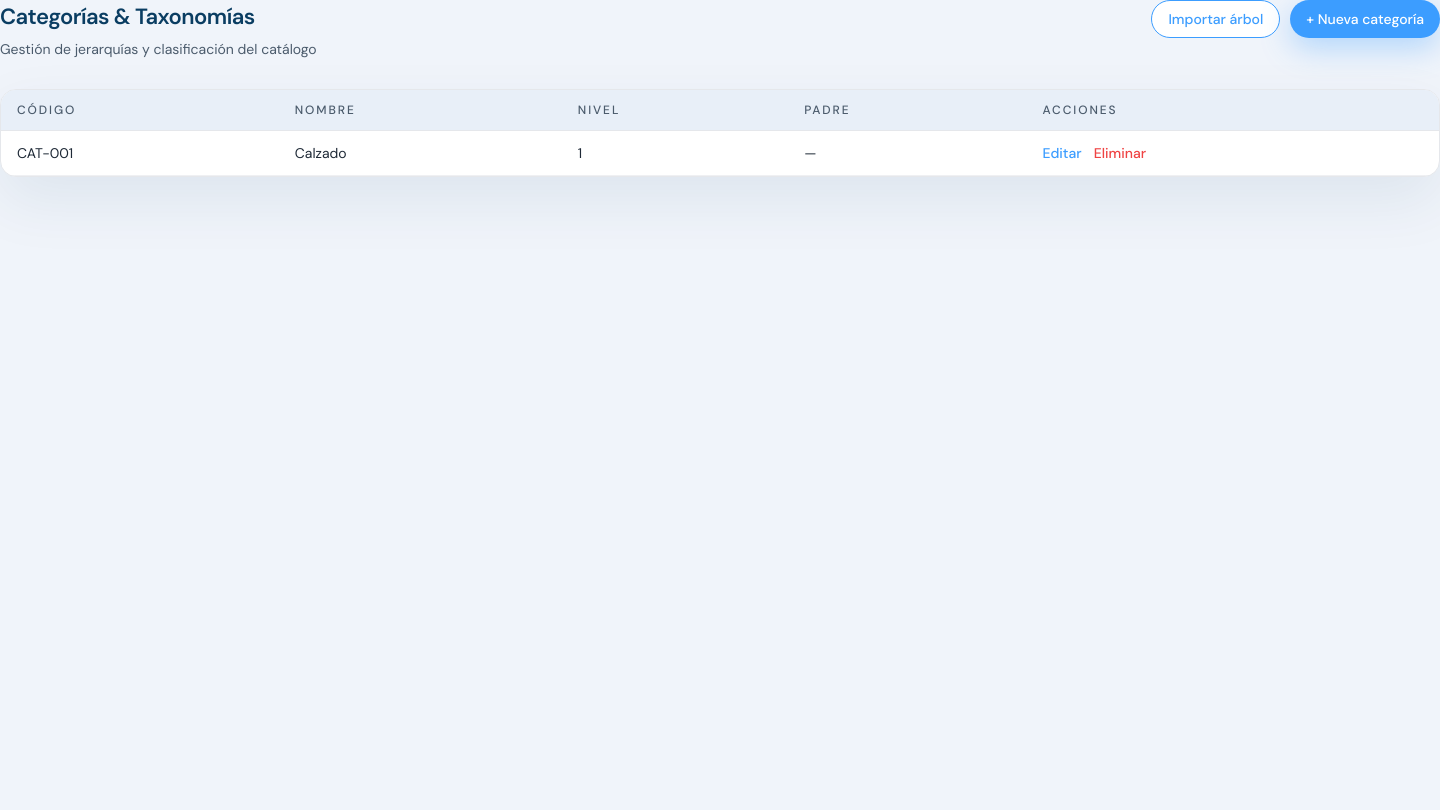
CategoriesPage › abre edición y confirmación de borrado
Click the button "Editar". click: (1062, 153)
box: top-left (1042, 143), bottom-right (1082, 163)
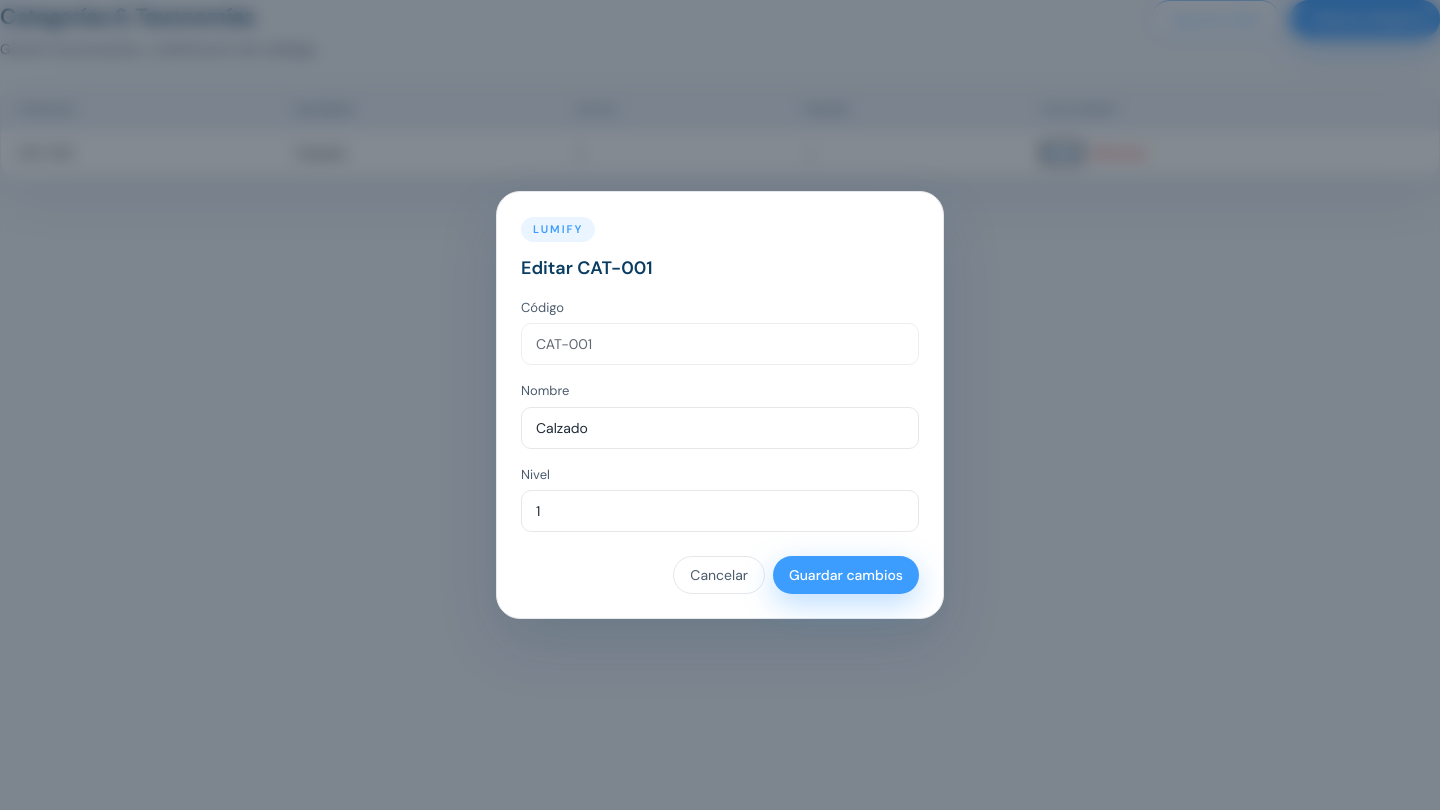
Result: the heading "Editar CAT-001" is shown at top-left (521, 256), bottom-right (653, 280)
Click the button "Cancelar". click: (719, 575)
box: top-left (673, 556), bottom-right (765, 594)
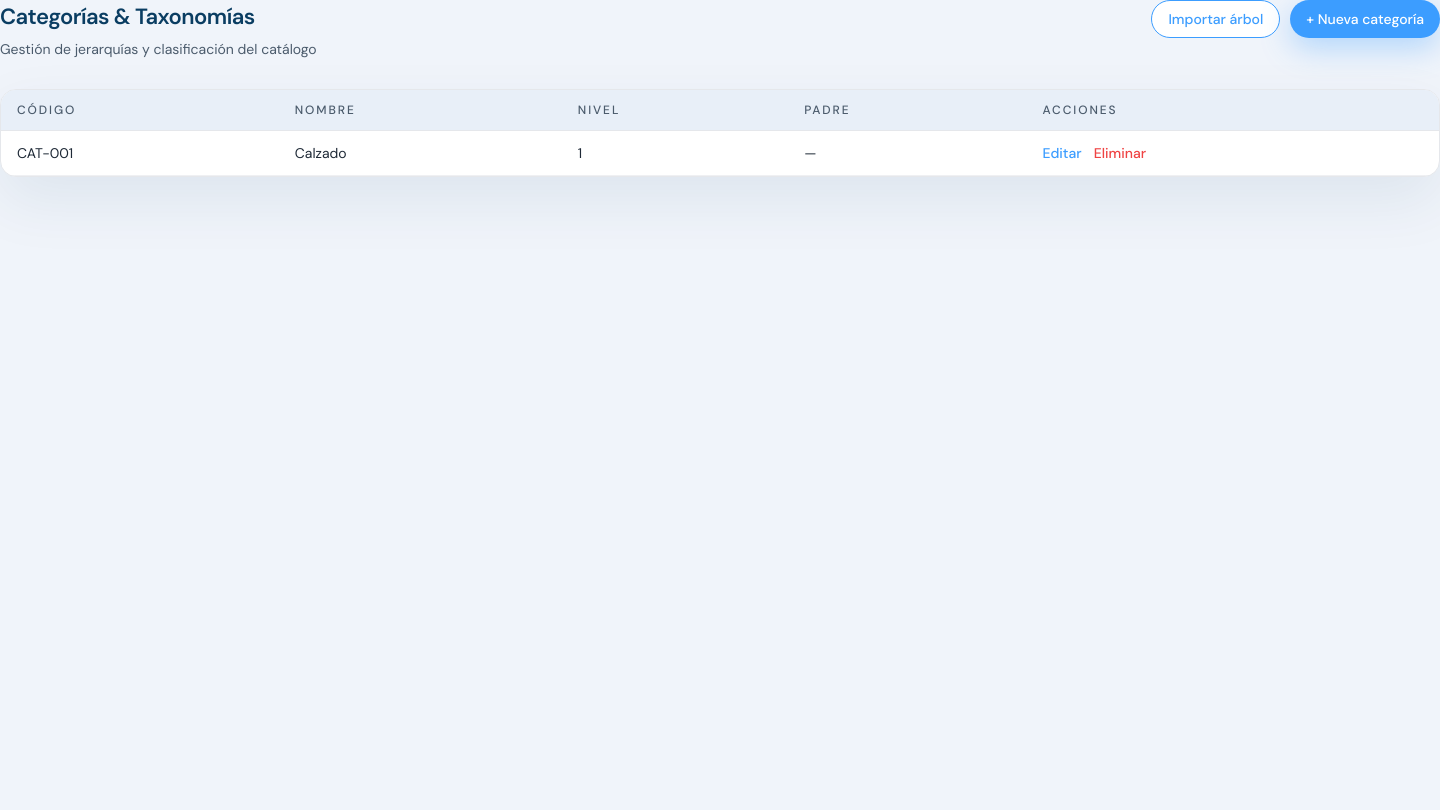
Click the button "Eliminar". click: (1120, 153)
box: top-left (1094, 143), bottom-right (1146, 163)
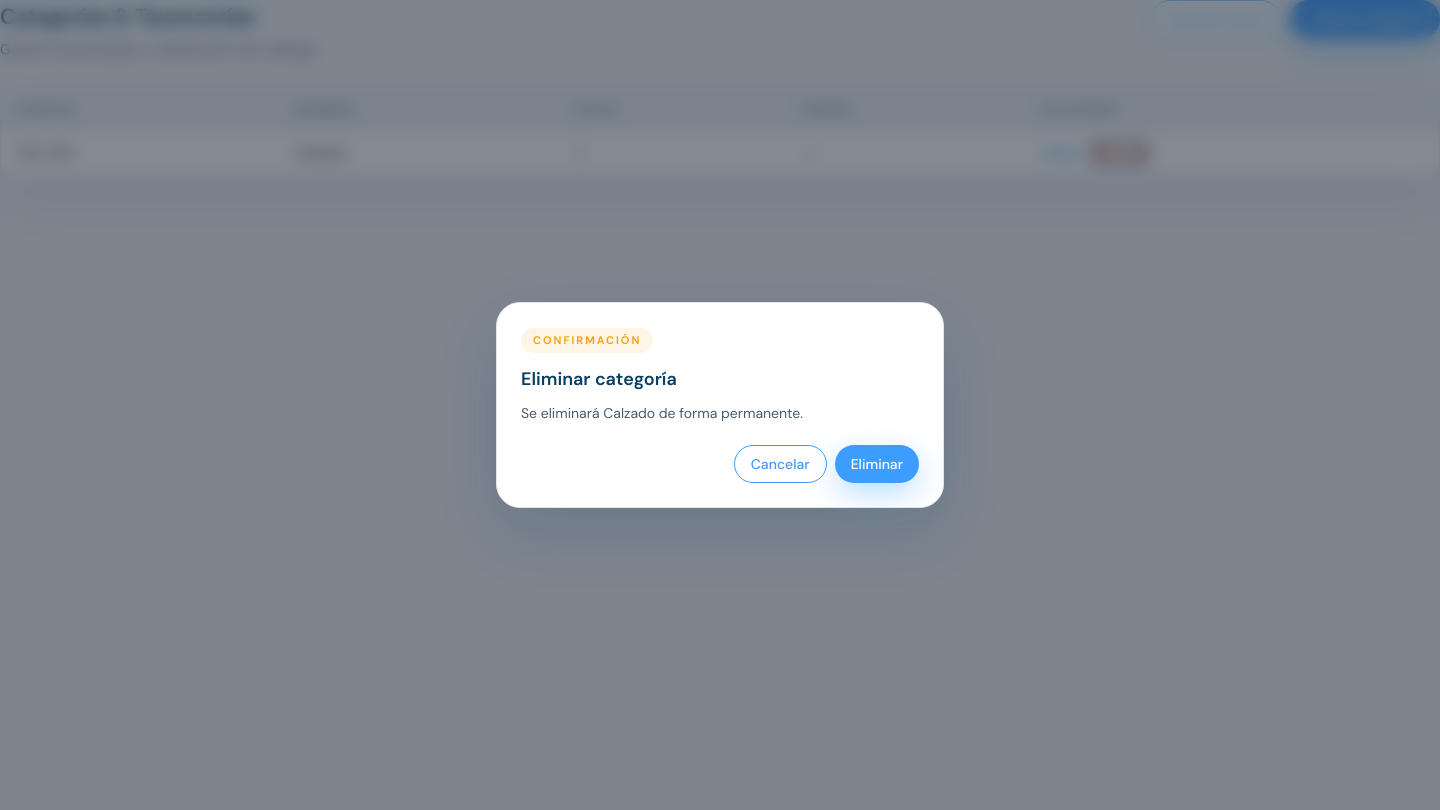
Result: the heading "Eliminar categoría" is shown at top-left (521, 367), bottom-right (677, 391)
